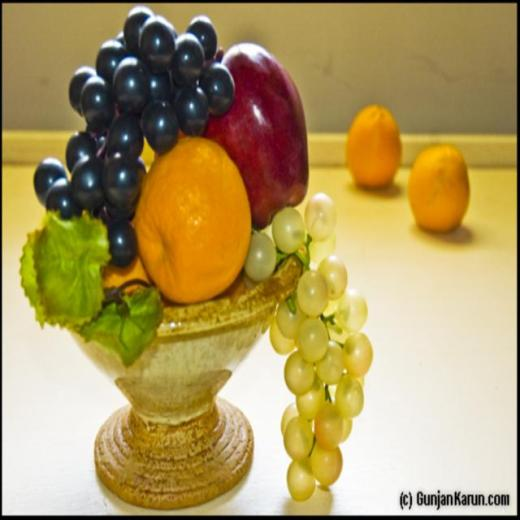Grape: (130, 139, 248, 302), (409, 144, 473, 230), (343, 103, 400, 196), (101, 260, 139, 300)
Orange: (33, 7, 237, 265), (244, 192, 374, 499)
